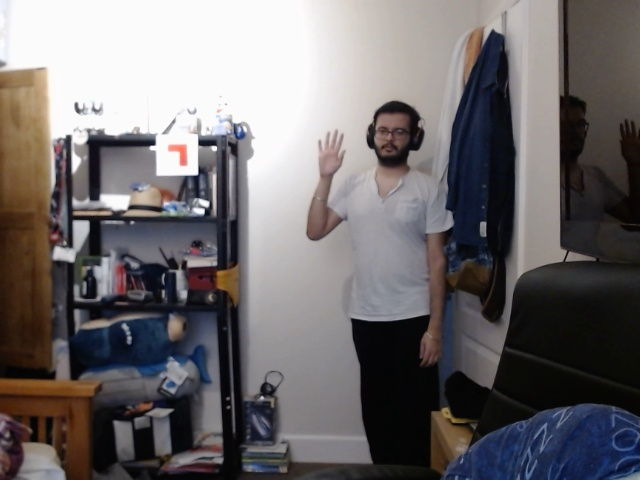Hello: (306, 124, 347, 187)
